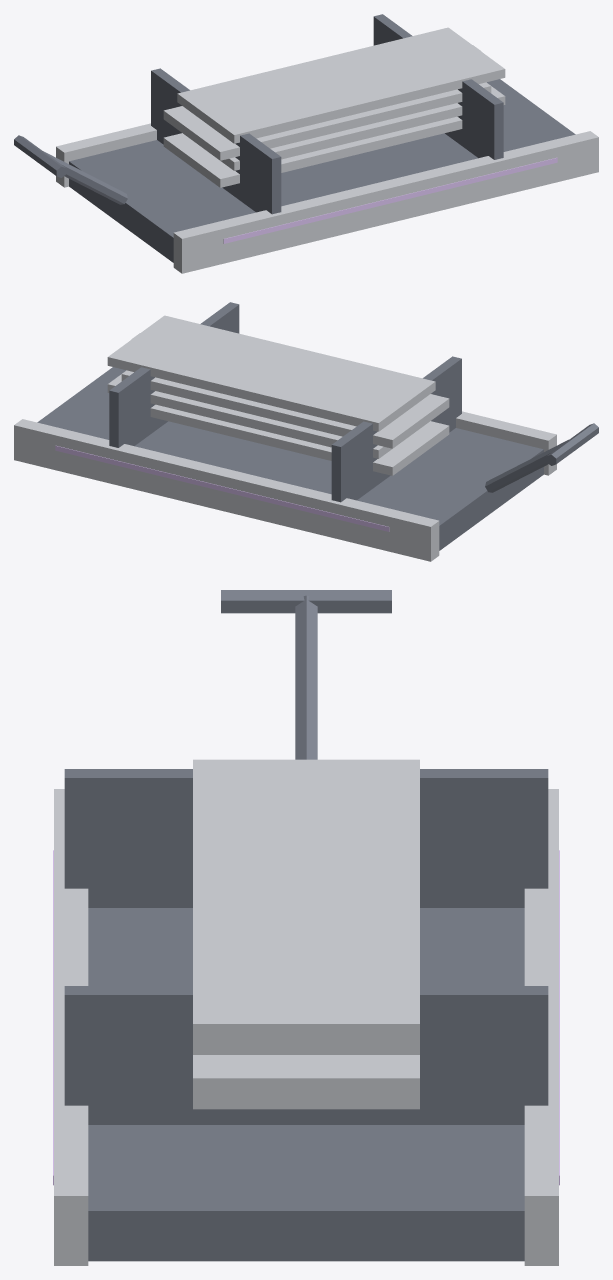
The model's file is PR_Treno_Paineis.fbx.
3 views of the same model, one above another, from view 1: azimuth 30°, elevation 25°; view 2: azimuth 150°, elevation 25°; view 3: azimuth 270°, elevation 25° (orthographic). The views are drawn at different scales.
Visible parts, largest first — view 1: PR_Treno_Paineis; view 2: PR_Treno_Paineis; view 3: PR_Treno_Paineis.
Boxes of the visible parts, bbox=[...] form: PR_Treno_Paineis: bbox=[14, 14, 598, 273]; PR_Treno_Paineis: bbox=[14, 302, 598, 561]; PR_Treno_Paineis: bbox=[53, 590, 559, 1265].
Size of the model in its own units: 5.4 by 1.13 by 2.37.
